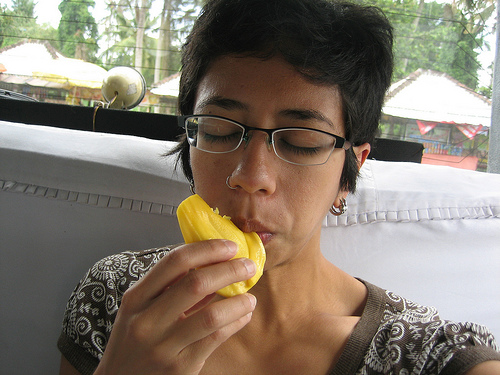jackfruit: (176, 193, 267, 298)
